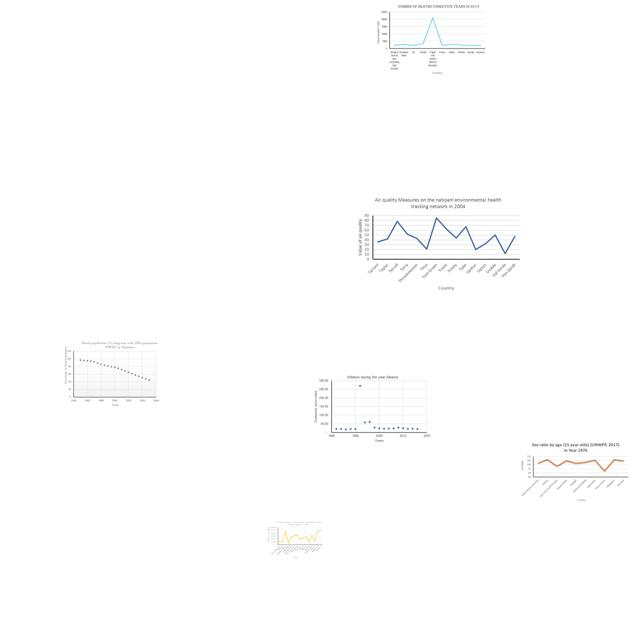Graph: (354, 195, 523, 294), (373, 1, 488, 78), (314, 374, 431, 443), (62, 338, 163, 408), (521, 440, 630, 502), (266, 520, 323, 559)
